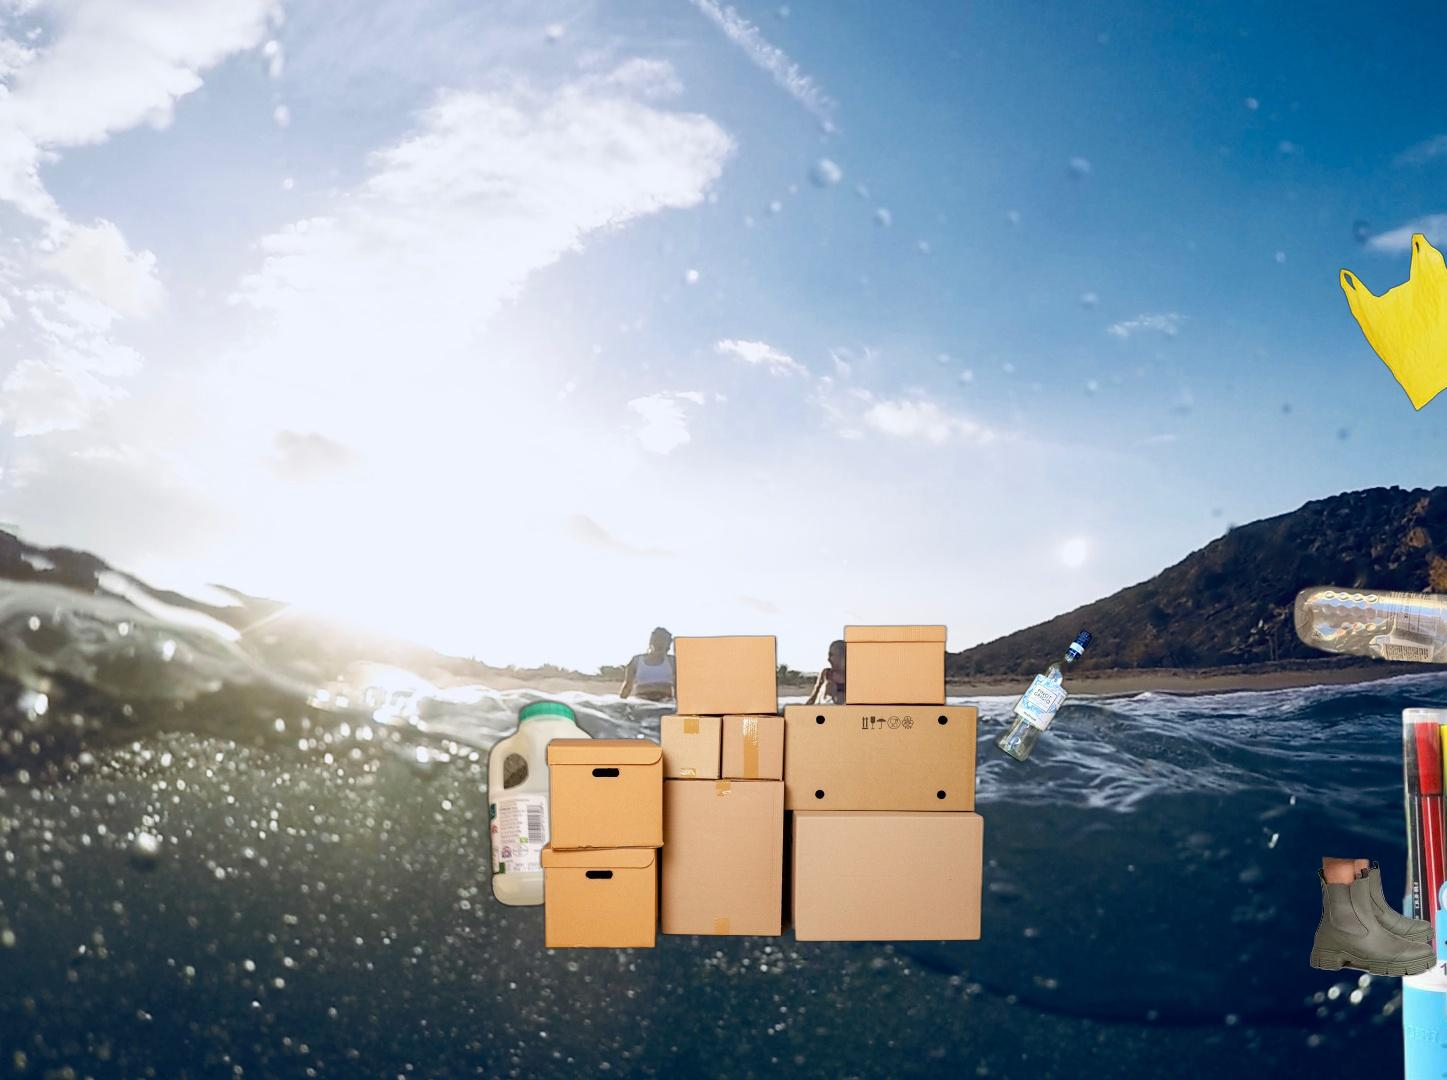glass: (796, 471, 1169, 836)
penholder: (1396, 704, 1447, 1080)
plastic-bag: (1337, 231, 1447, 414)
plastic-bottles: (1216, 465, 1447, 1080), (482, 694, 621, 1002)
shoes: (1306, 853, 1440, 978)
trashbox-cardboard: (535, 621, 989, 951)
